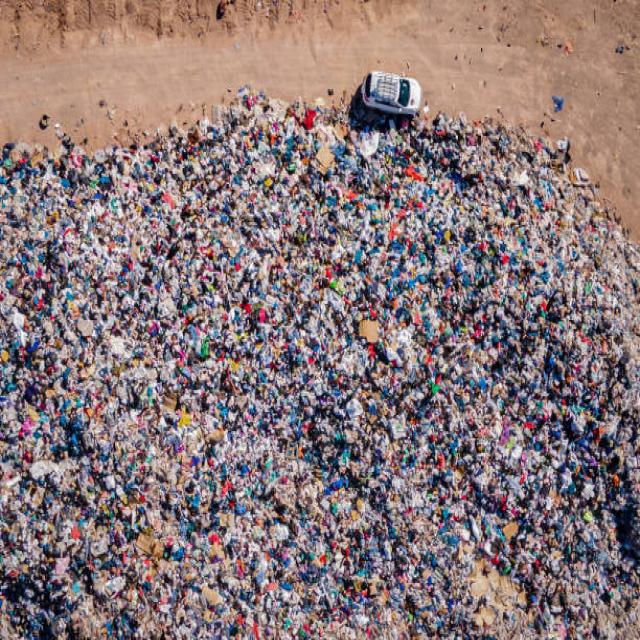trash: (13, 168, 626, 624)
